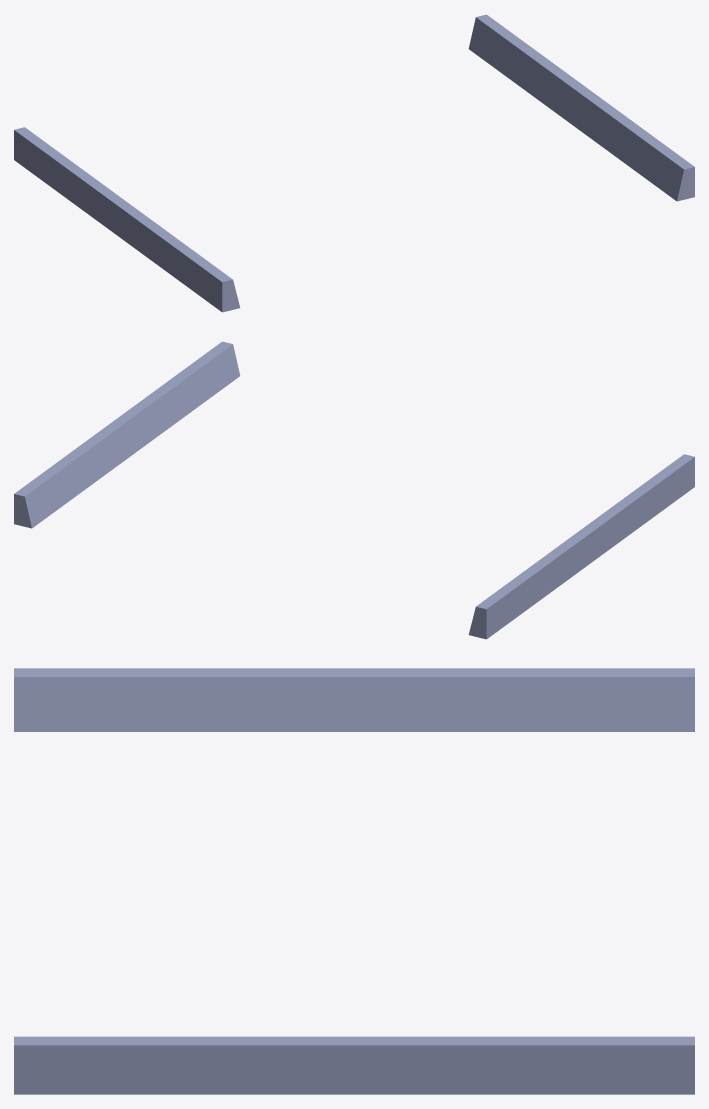
The model's file is road-side-barrier.glb.
3 views of the same model, one above another, from view 1: azimuth 30°, elevation 25°; view 2: azimuth 150°, elevation 25°; view 3: azimuth 270°, elevation 25° (orthographic). The views are drawn at different scales.
Visible parts, largest first — view 1: road-side-barrier; view 2: road-side-barrier; view 3: road-side-barrier.
Boxes of the visible parts, left/top/right/bottom form: road-side-barrier: left=14, top=14, right=694, bottom=312; road-side-barrier: left=14, top=341, right=694, bottom=639; road-side-barrier: left=14, top=668, right=694, bottom=1094.
Bounding box in the file's own units: 1.31 × 0.08 × 1.
Materials: 1 (1 with a texture image).
